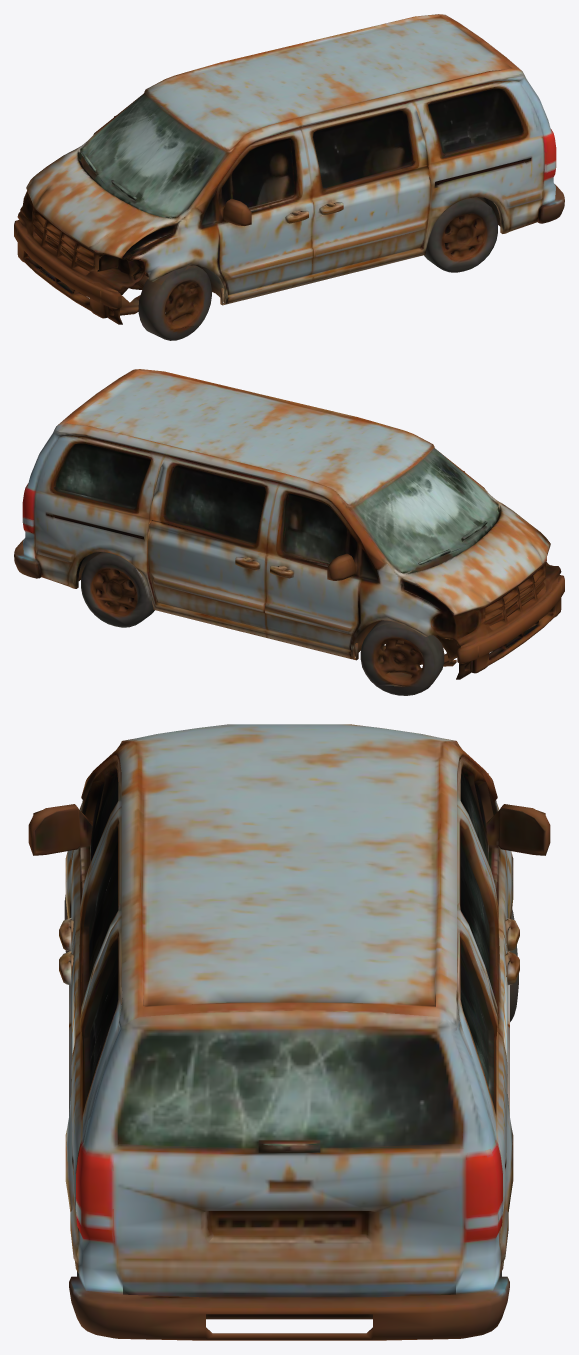
Rendered from crashed_rusty_minivan_f872ff37_v1.glb.
3 renders of one model, top to bottom at view 1: azimuth 30°, elevation 25°; view 2: azimuth 150°, elevation 25°; view 3: azimuth 270°, elevation 25°, orthographic. The views are drawn at different scales.
Visible parts, largest first — view 1: material; view 2: material; view 3: material.
Part boxes in pixels (x1,y1,x2,y2): material: (14,14,564,340); material: (14,369,564,695); material: (28,724,550,1340).
Bounding box in the file's own units: 1.9 × 0.6951 × 0.908.
1 material, 1 textured.
